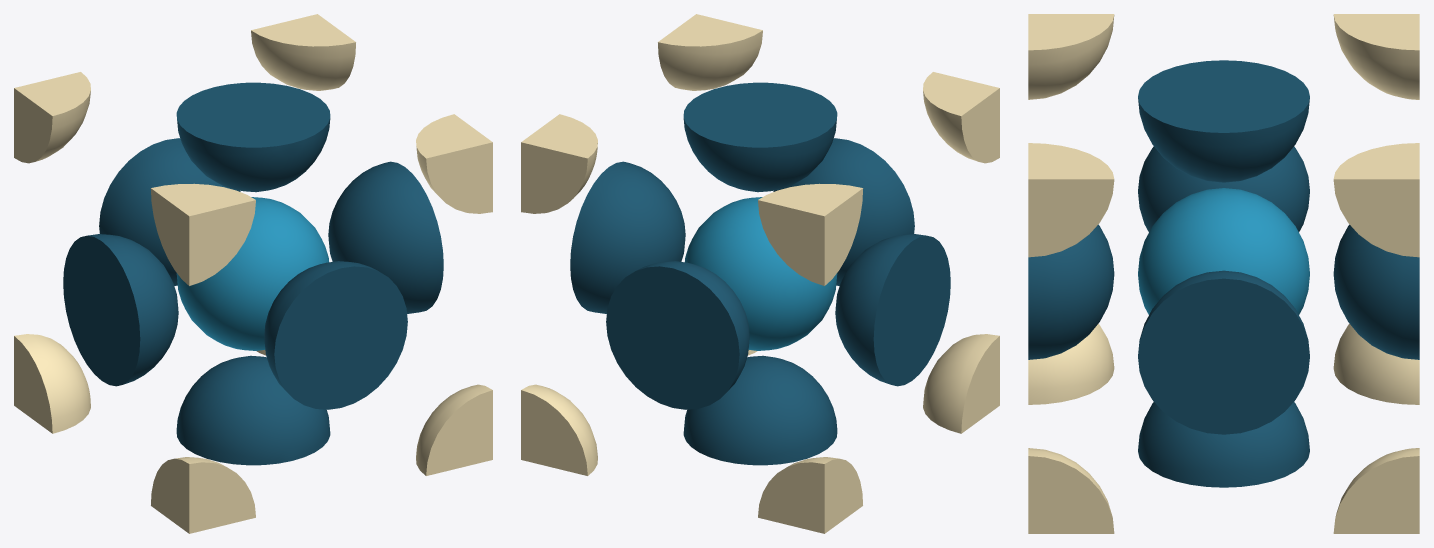
The model's file is jingbai1-C.gltf.
3 renders of one model, left to right at view 1: azimuth 30°, elevation 25°; view 2: azimuth 150°, elevation 25°; view 3: azimuth 270°, elevation 25°, orthographic. The views are drawn at different scales.
Parts seen in each view (by area): view 1: 1, 2, 3; view 2: 1, 2, 3; view 3: 1, 2, 3.
Part boxes in pixels (box(x1,y1,x2,y2)): 1: box(63, 82, 443, 465); 2: box(14, 14, 492, 533); 3: box(176, 197, 328, 350); 1: box(570, 82, 950, 465); 2: box(521, 14, 999, 533); 3: box(685, 197, 837, 350); 1: box(1028, 60, 1419, 487); 2: box(1028, 14, 1419, 533); 3: box(1138, 188, 1309, 314).
Bounding box in the file's own units: 50 × 50 × 50.
3 materials, 3 textured.
